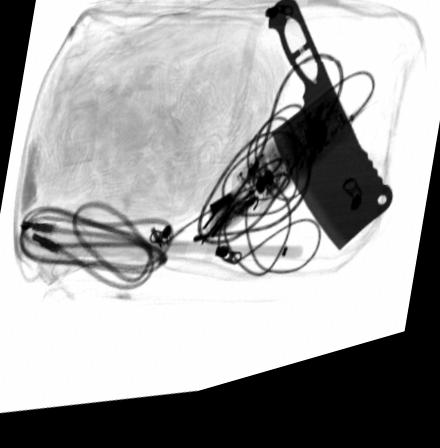Knife: (266, 12, 392, 271)
